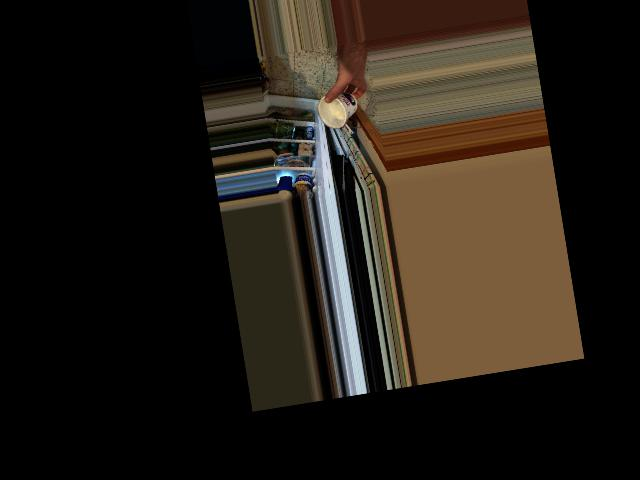cotage: (315, 84, 365, 131)
